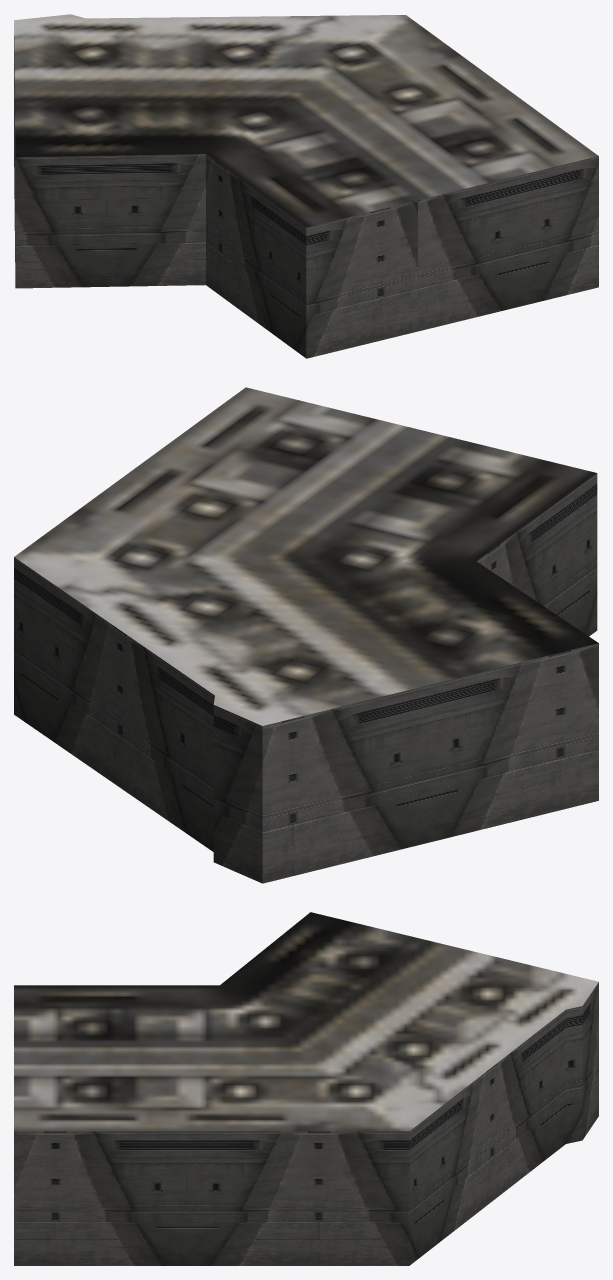
File: fortress_hard_40.glb
The picture shows the model from 3 angles, top to bottom: view 1: azimuth 30°, elevation 25°; view 2: azimuth 150°, elevation 25°; view 3: azimuth 270°, elevation 25°; orthographic projection. The views are drawn at different scales.
Visible parts, largest first — view 1: buildings/saxarba/fortress_hard/fortress_hard_40; view 2: buildings/saxarba/fortress_hard/fortress_hard_40; view 3: buildings/saxarba/fortress_hard/fortress_hard_40.
Boxes of the visible parts, <box> form: buildings/saxarba/fortress_hard/fortress_hard_40: <box>14,14,598,358</box>; buildings/saxarba/fortress_hard/fortress_hard_40: <box>14,387,598,883</box>; buildings/saxarba/fortress_hard/fortress_hard_40: <box>14,912,598,1265</box>.
Size of the model in its own units: 63 by 18 by 71.
